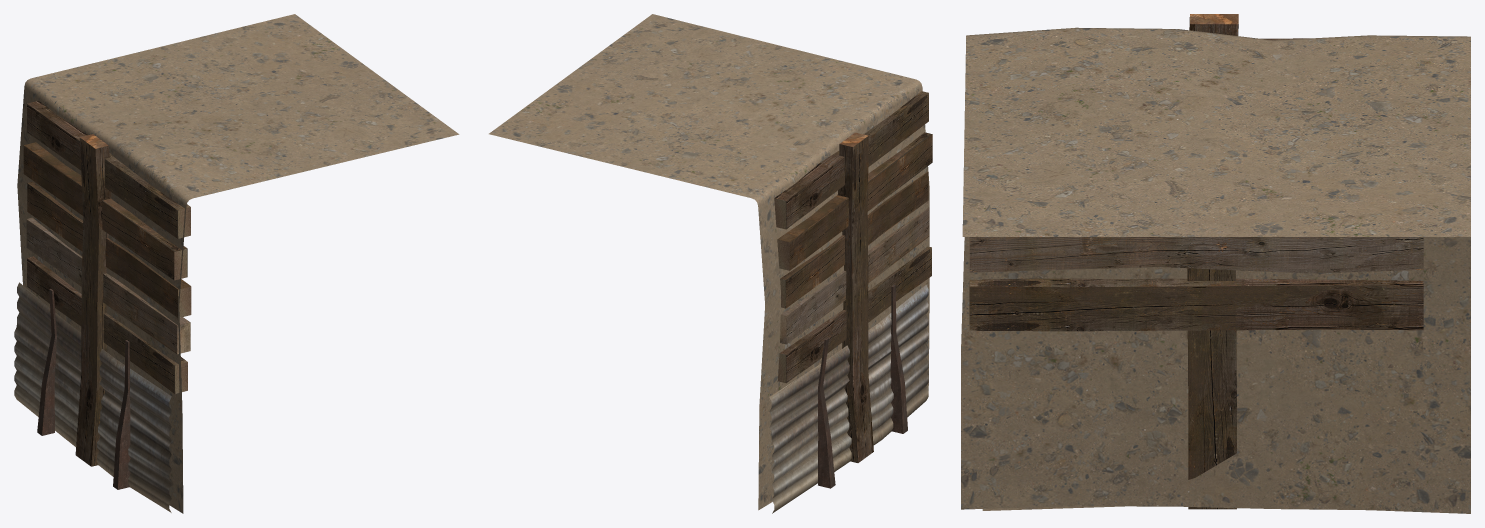
File: section_1.fbx
3 renders of one model, left to right at view 1: azimuth 30°, elevation 25°; view 2: azimuth 150°, elevation 25°; view 3: azimuth 270°, elevation 25°, orthographic. The views are drawn at different scales.
Visible parts, largest first — view 1: Box003, Object002, Box056, Box065, Box064, Box054, Box053, Box048, Box018, Box068; view 2: Box003, Object002, Box056, Box065, Box064, Box048, Box054, Box053, Box068, Box018; view 3: Box003, Box048, Box054, Box056.
Part boxes in pixels (box(x1,y1,x2,y2)): Box003: box(17, 14, 459, 513); Object002: box(14, 282, 171, 512); Box056: box(75, 134, 111, 466); Box065: box(23, 142, 187, 280); Box064: box(27, 100, 190, 238); Box054: box(26, 217, 190, 354); Box053: box(27, 181, 191, 317); Box048: box(27, 256, 187, 393); Box018: box(113, 340, 130, 489); Box068: box(37, 289, 56, 435); Box003: box(489, 14, 929, 510); Object002: box(769, 284, 928, 513); Box056: box(837, 132, 873, 462); Box065: box(777, 132, 932, 270); Box064: box(774, 91, 928, 229); Box048: box(778, 246, 931, 383); Box054: box(780, 207, 929, 344); Box053: box(780, 171, 928, 308); Box068: box(818, 338, 835, 488); Box018: box(890, 284, 907, 433); Box003: box(961, 27, 1470, 513); Box048: box(969, 278, 1423, 331); Box054: box(969, 237, 1423, 273); Box056: box(1187, 14, 1238, 509).
Bounding box in the file's own units: 369 × 375 × 351.
